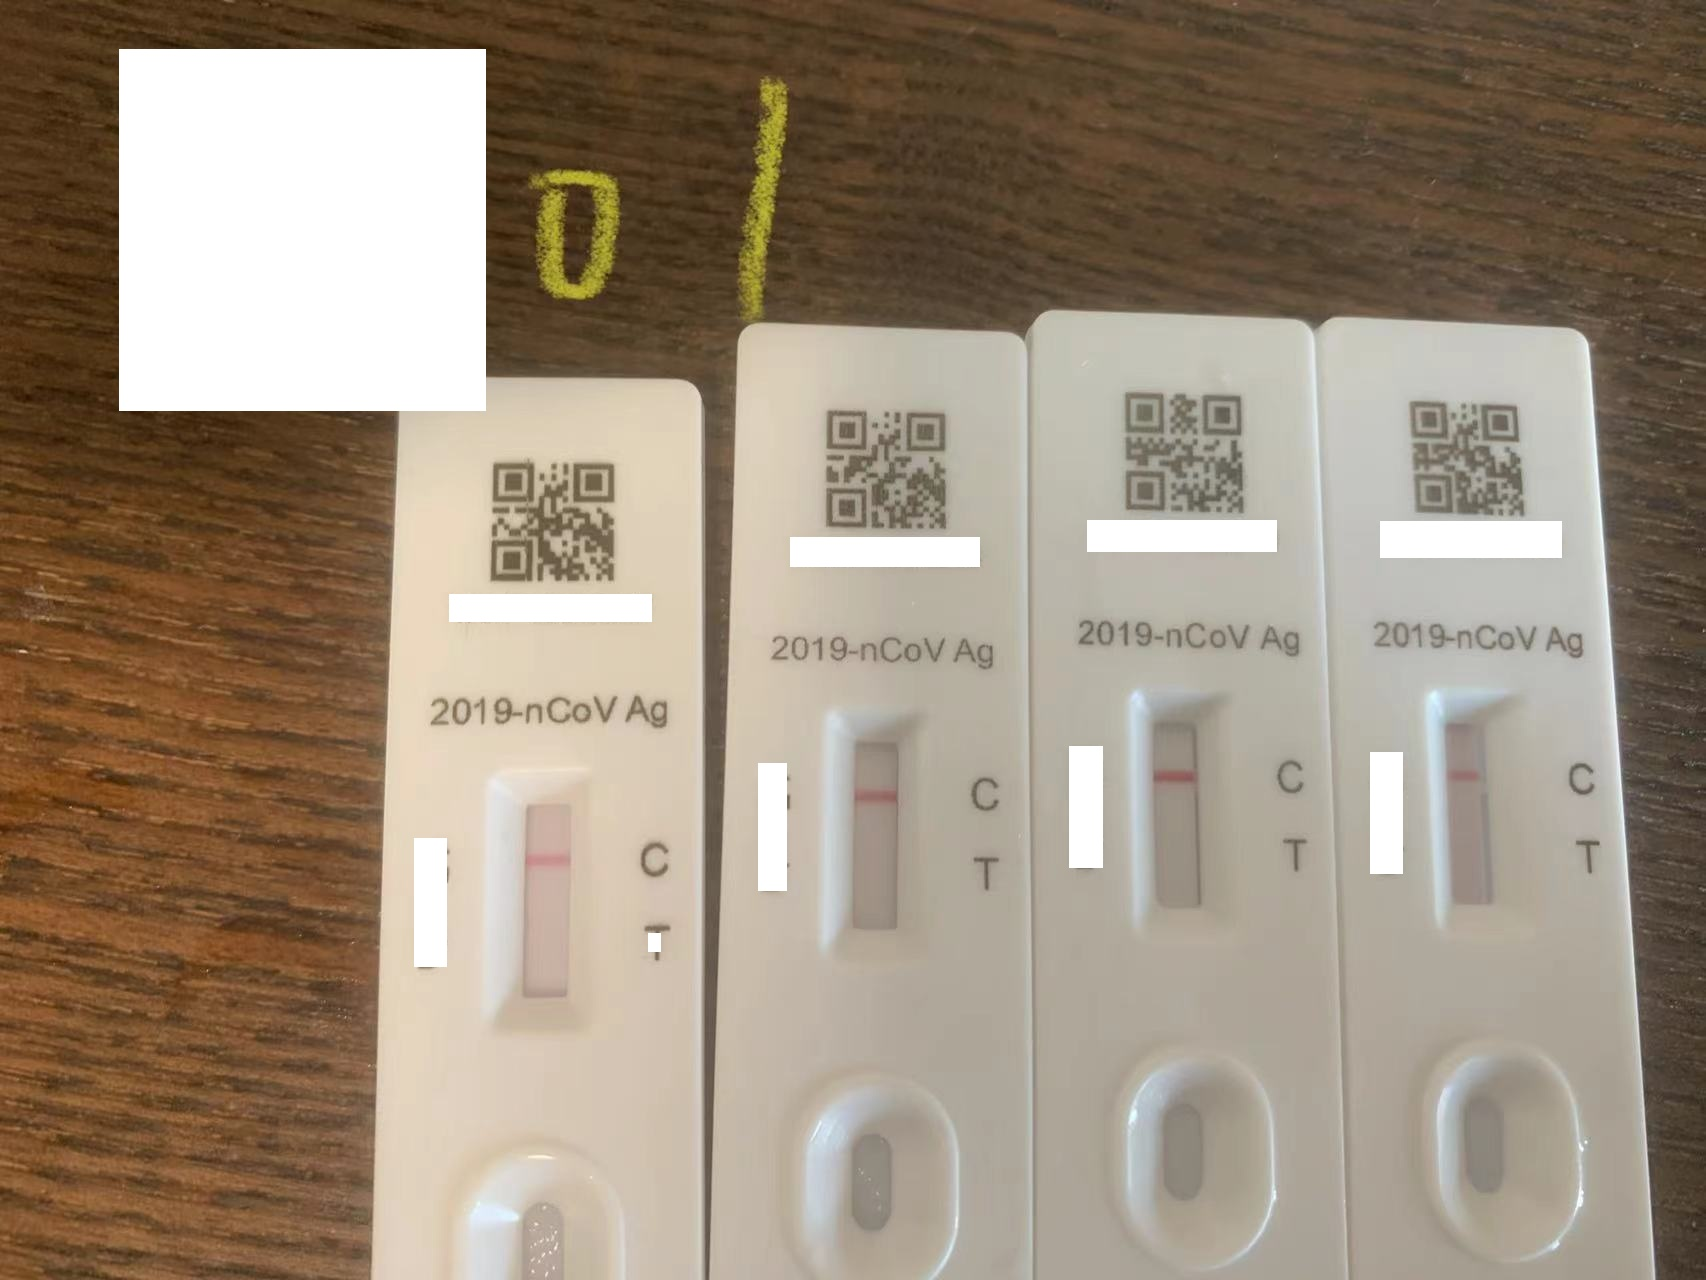negative: (485, 762, 592, 1034), (1128, 684, 1231, 936), (824, 706, 928, 957), (1426, 686, 1520, 934)
positive: (825, 706, 925, 943)
